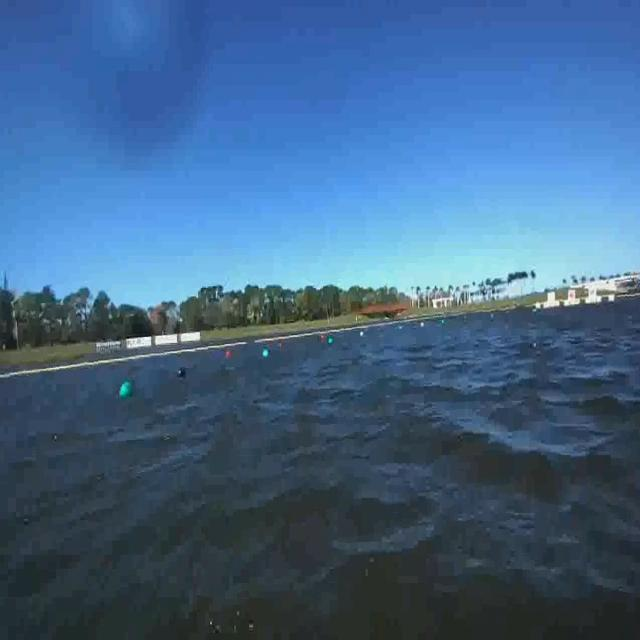green-buoy: (119, 381, 132, 400)
